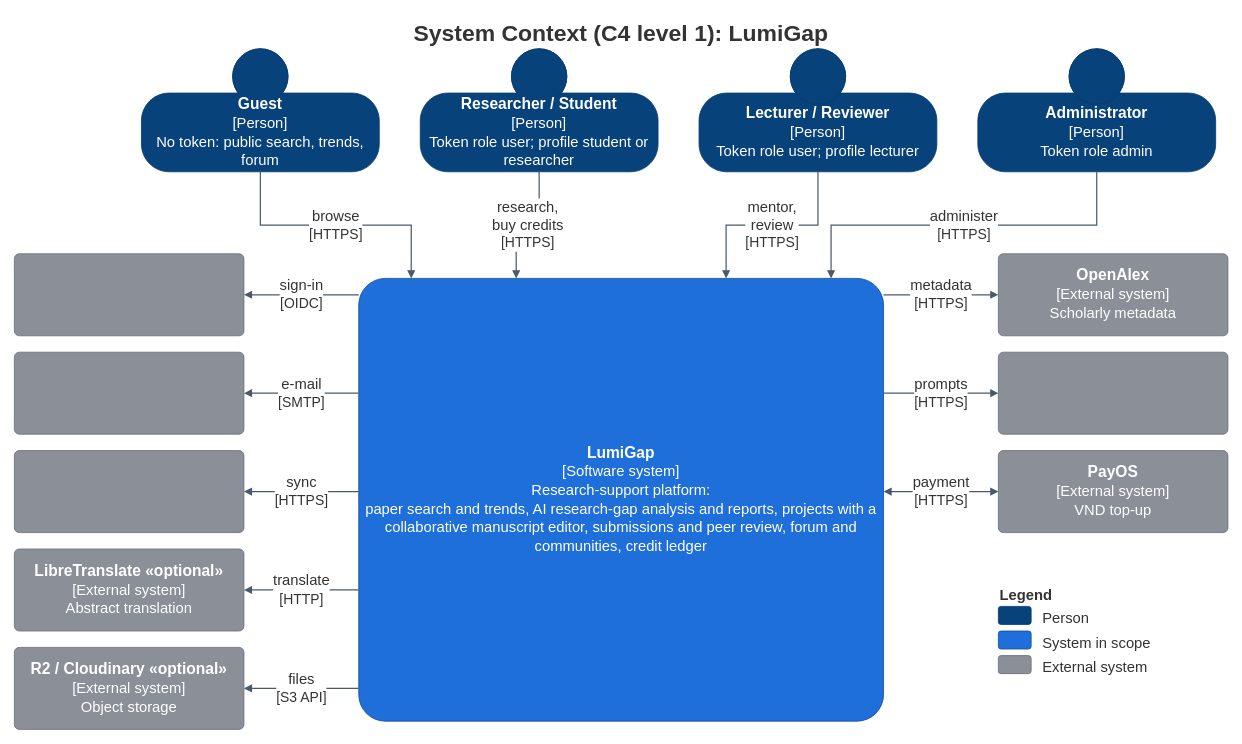
This 1242x744 diagram has some shape labels left out. Here are the shapes that lost their labels. From the top down, the centre of each, then its label:
At [129,294]: "Google OAuth / OIDC [External system] Sign-in".
At [129,392]: "SMTP server [External system] E-mail".
At [1113,392]: "LLM providers [External system] Gemini; optional Ollama, user-supplied".
At [129,491]: "GitHub «optional» [External system] Manuscript repository".
